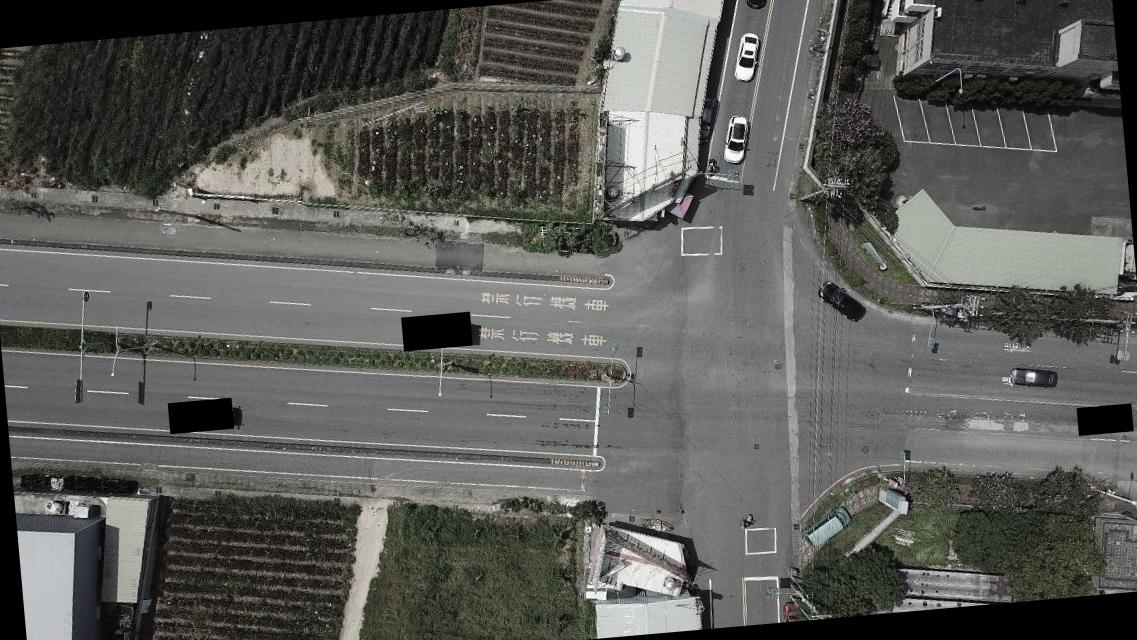vehicle: (800, 504, 854, 550), (817, 278, 866, 324), (719, 112, 754, 167), (729, 32, 762, 84), (1008, 365, 1058, 392), (692, 96, 718, 144), (780, 600, 806, 622), (744, 0, 774, 14)
